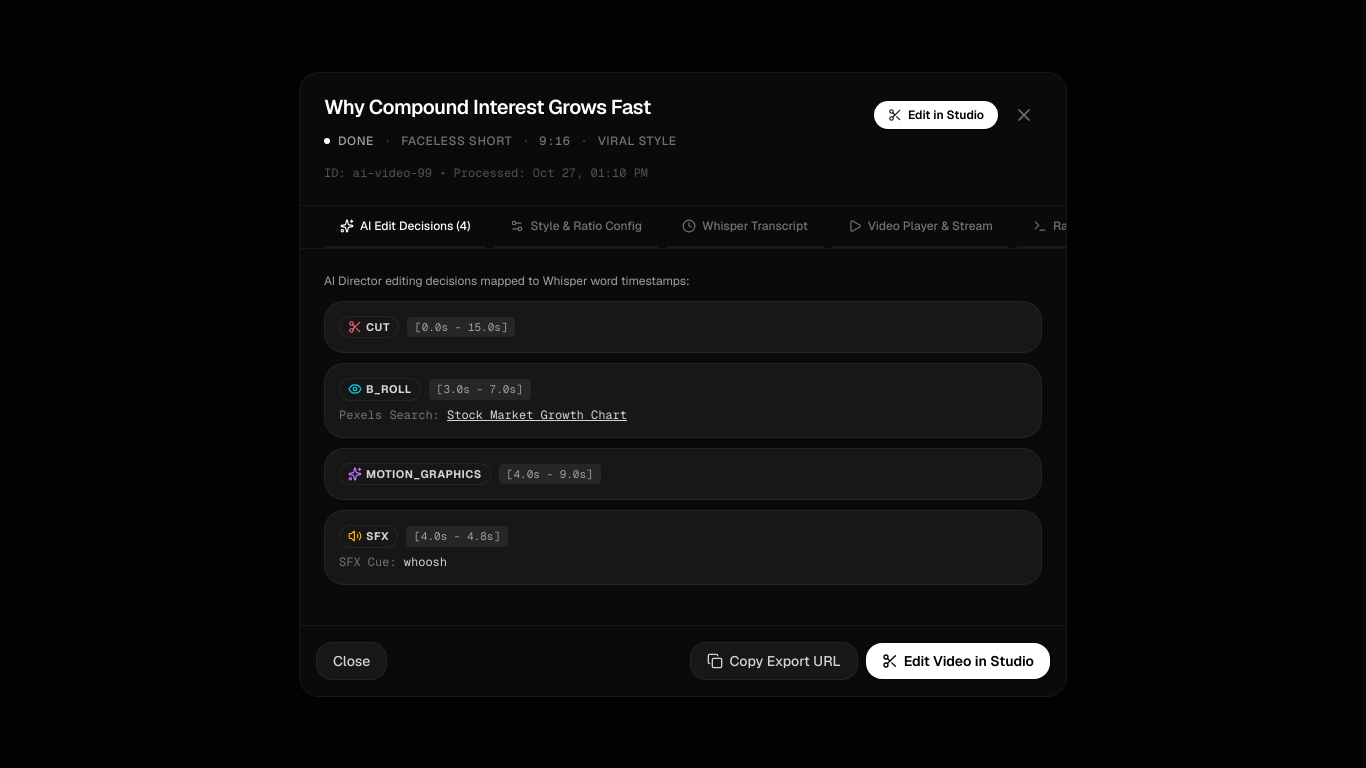
Test: AI Automatic Video Editing -> Studio Editor Workflow › 1. VideoDetailModal Edit Actions › renders interactive studio editor CTA banner in Video Player tab
This screenshot has width=1366, height=768.
// Switch to Player tab
Click the button "Video Player & Stream" at (920, 226), box [832,206,1009,248]
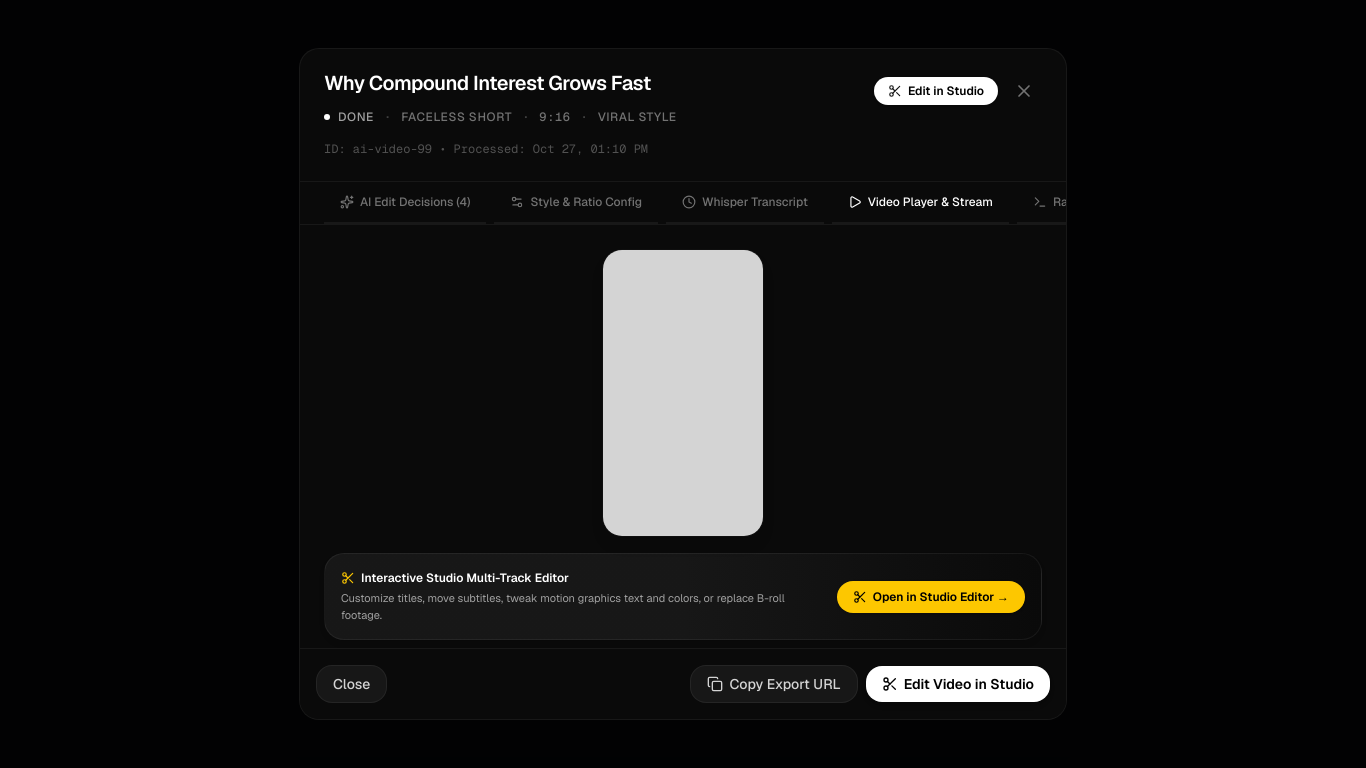
Expected: the text "Interactive Studio Multi-Track Editor" is shown, [361,570,569,586]
Expected: the link "Open in Studio Editor →" is shown, [837,581,1025,613]
